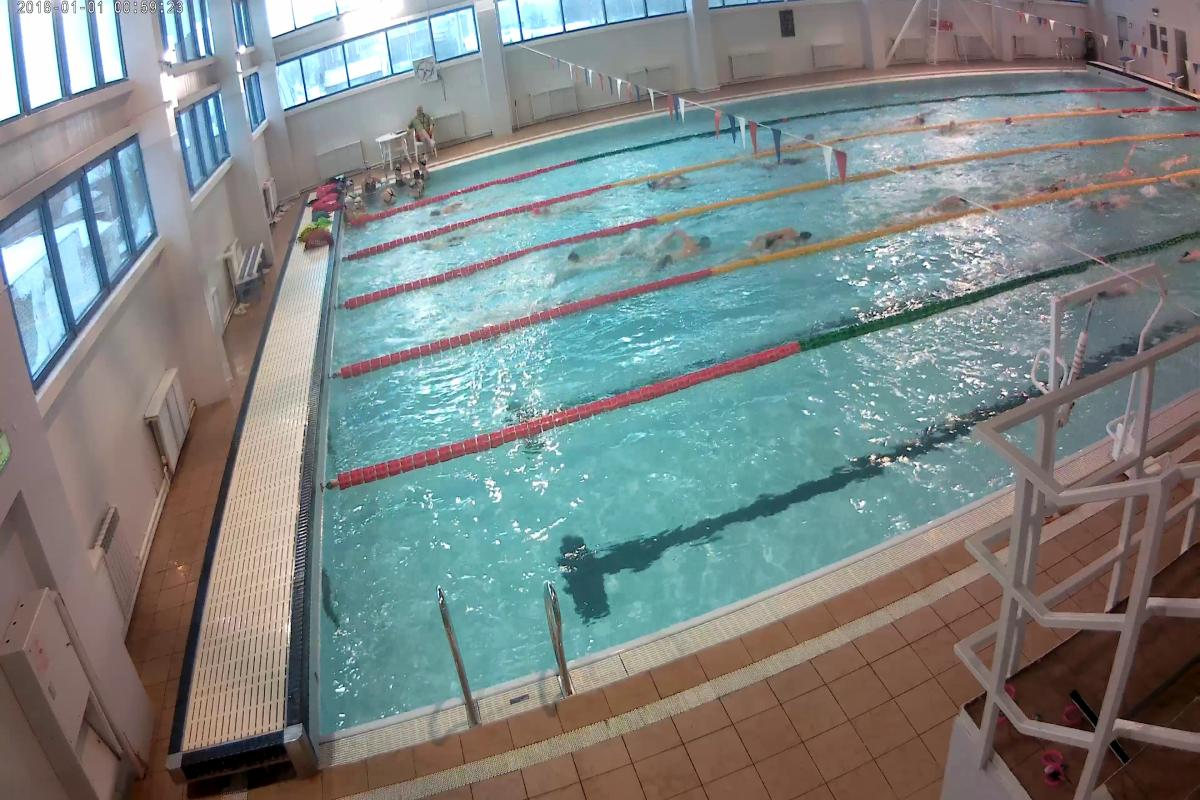swimmer: (741, 220, 825, 249), (648, 233, 720, 263), (923, 195, 985, 208), (548, 251, 613, 263)
